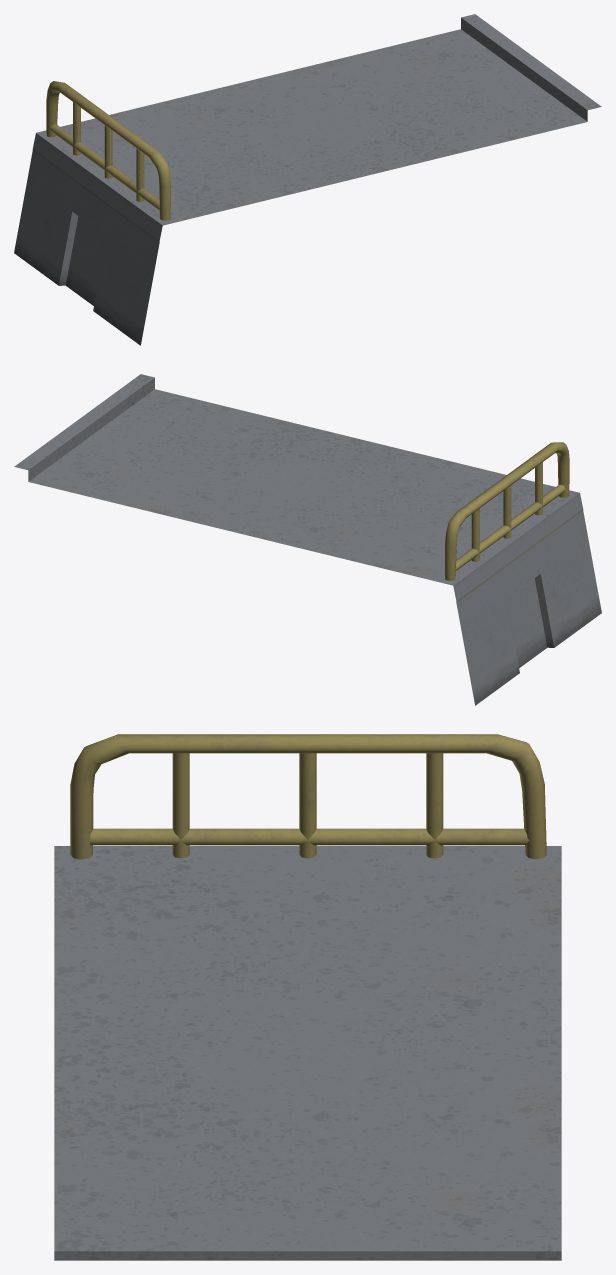
Rendered from spaceStation_sidewalk_a.fbx.
3 renders of one model, top to bottom at view 1: azimuth 30°, elevation 25°; view 2: azimuth 150°, elevation 25°; view 3: azimuth 270°, elevation 25°, orthographic. The views are drawn at different scales.
Parts seen in each view (by area): view 1: station_Sidewalk_Floor, station_Sidewalk_Wall, station_Sidewalk_Fence; view 2: station_Sidewalk_Floor, station_Sidewalk_Wall, station_Sidewalk_Fence; view 3: station_Sidewalk_Floor, station_Sidewalk_Fence.
Boxes of the visible parts, x1=… form: station_Sidewalk_Floor: x1=36, y1=14, x2=601, y2=225; station_Sidewalk_Wall: x1=14, y1=133, x2=162, y2=345; station_Sidewalk_Fence: x1=46, y1=81, x2=170, y2=220; station_Sidewalk_Floor: x1=14, y1=374, x2=579, y2=585; station_Sidewalk_Wall: x1=453, y1=493, x2=601, y2=705; station_Sidewalk_Fence: x1=445, y1=442, x2=569, y2=580; station_Sidewalk_Floor: x1=54, y1=846, x2=561, y2=1260; station_Sidewalk_Fence: x1=70, y1=734, x2=546, y2=859.
Size of the model in its own units: 8.4 by 3.06 by 4.
3 materials, 3 textured.
